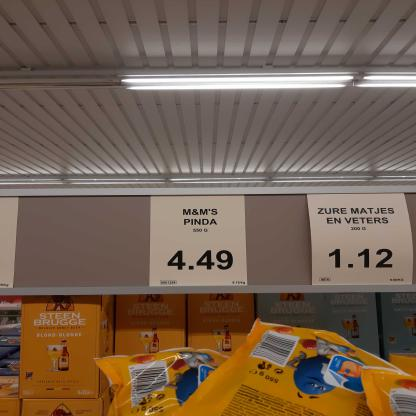prtg: (307, 194, 414, 287), (150, 196, 249, 288)
